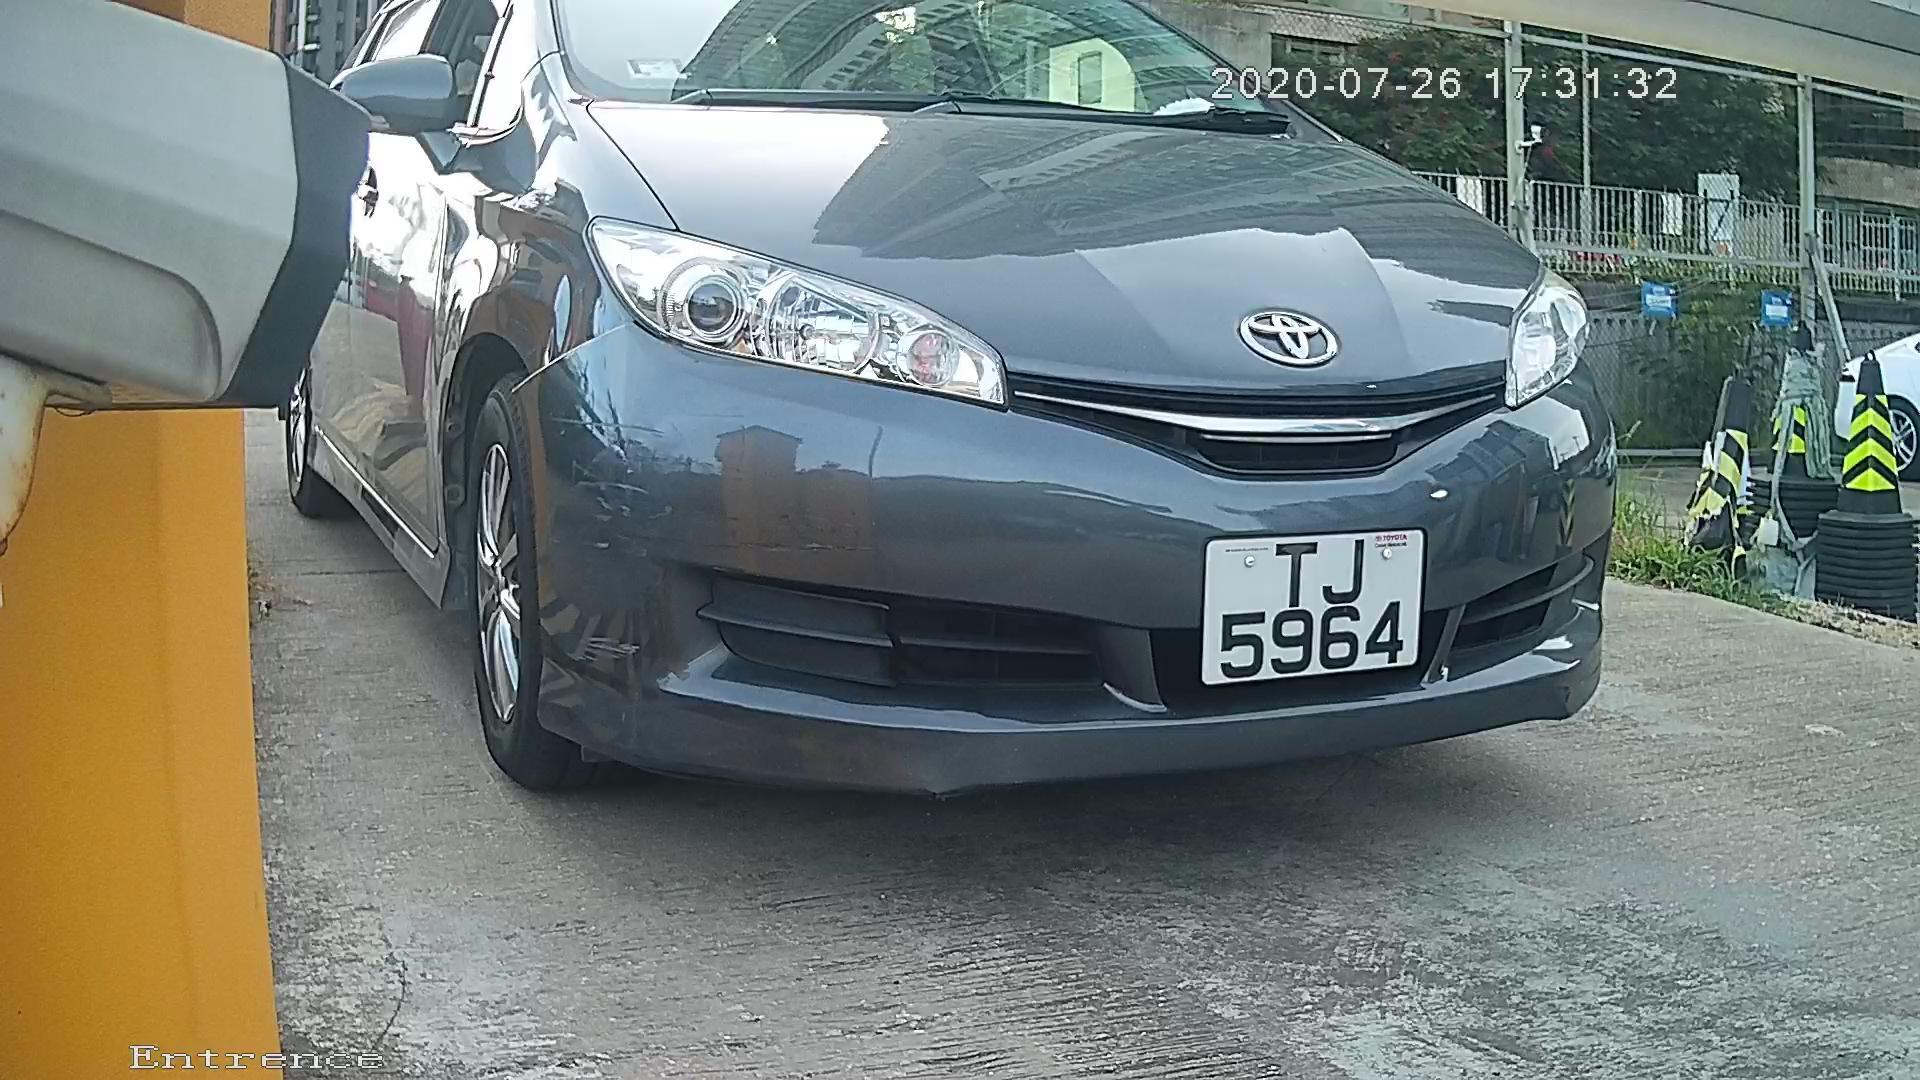privatecar: (266, 1, 1758, 858)
